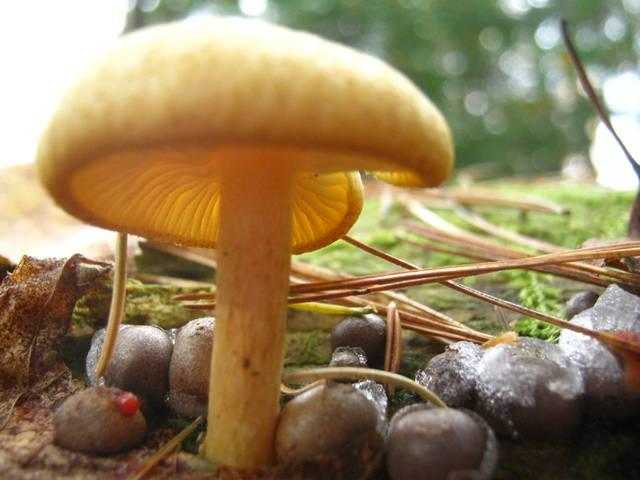poisonous_mushroom: (34, 13, 455, 471), (84, 322, 172, 406), (51, 383, 147, 454)
